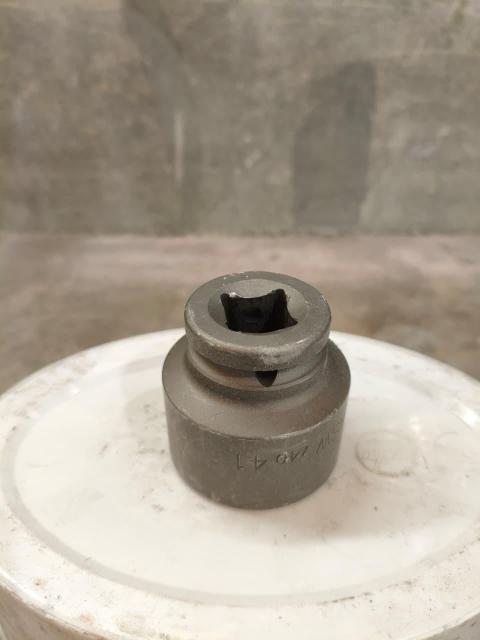Metal: (172, 268, 347, 505)
